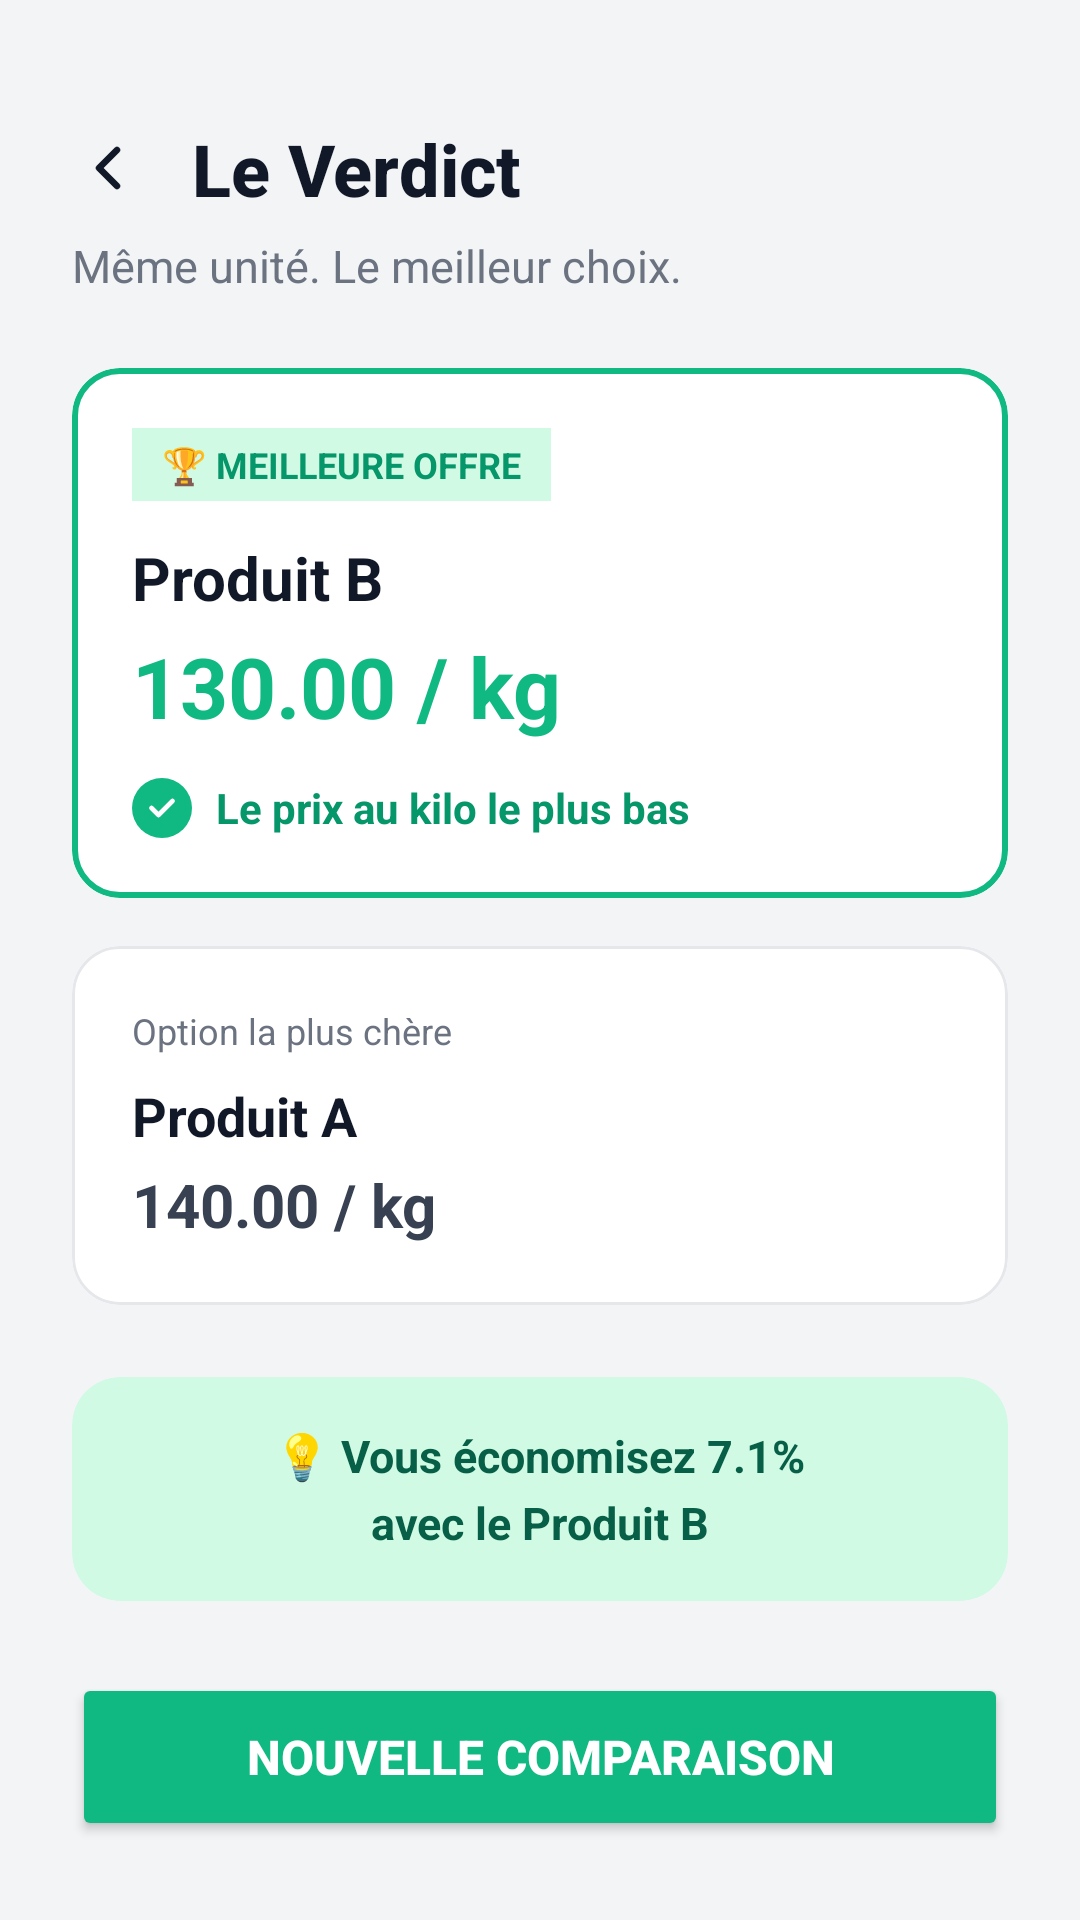

Named icons in this screenshot (1080x1920) and their centers, point (x, y):
check: point (162, 808)
